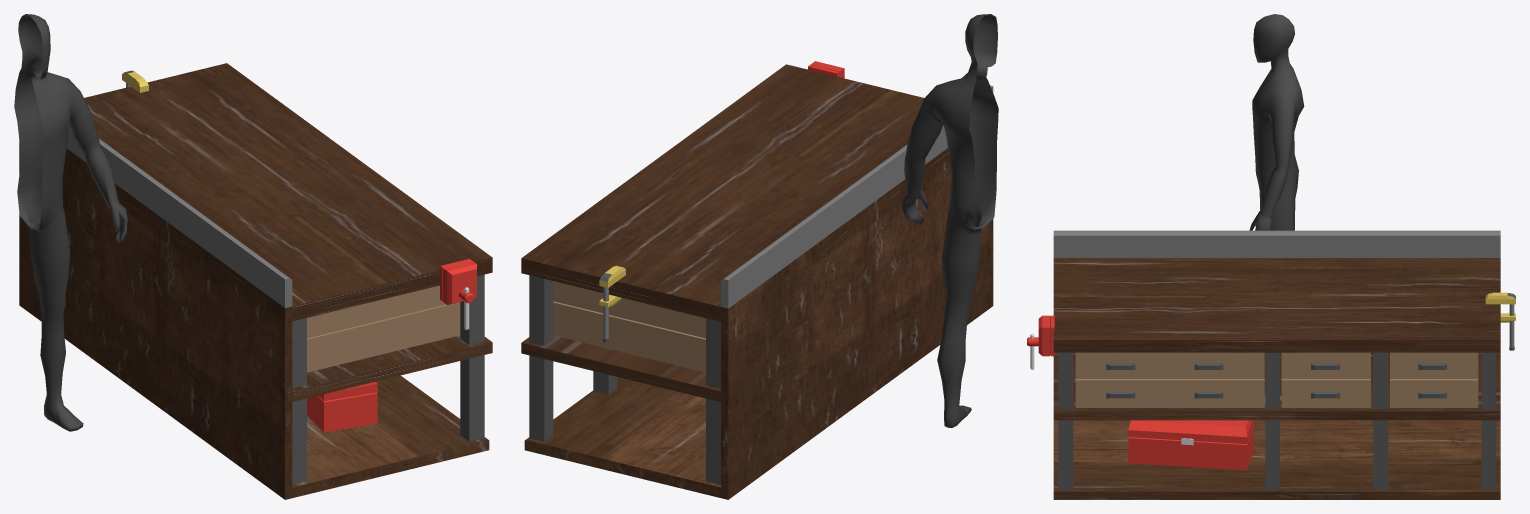
File: Workbench.fbx
3 views of the same model, side by side, from view 1: azimuth 30°, elevation 25°; view 2: azimuth 150°, elevation 25°; view 3: azimuth 270°, elevation 25° (orthographic). The views are drawn at different scales.
Parts seen in each view (by area): view 1: Workbench, Body; view 2: Workbench, Body; view 3: Workbench, Body.
Boxes of the visible parts, <box> form: Workbench: <box>19,63,492,499</box>; Body: <box>14,14,127,431</box>; Workbench: <box>521,61,993,499</box>; Body: <box>901,14,998,427</box>; Workbench: <box>1027,230,1515,499</box>; Body: <box>1249,14,1304,230</box>.
Bounding box in the file's own units: 153 × 183 × 231.
